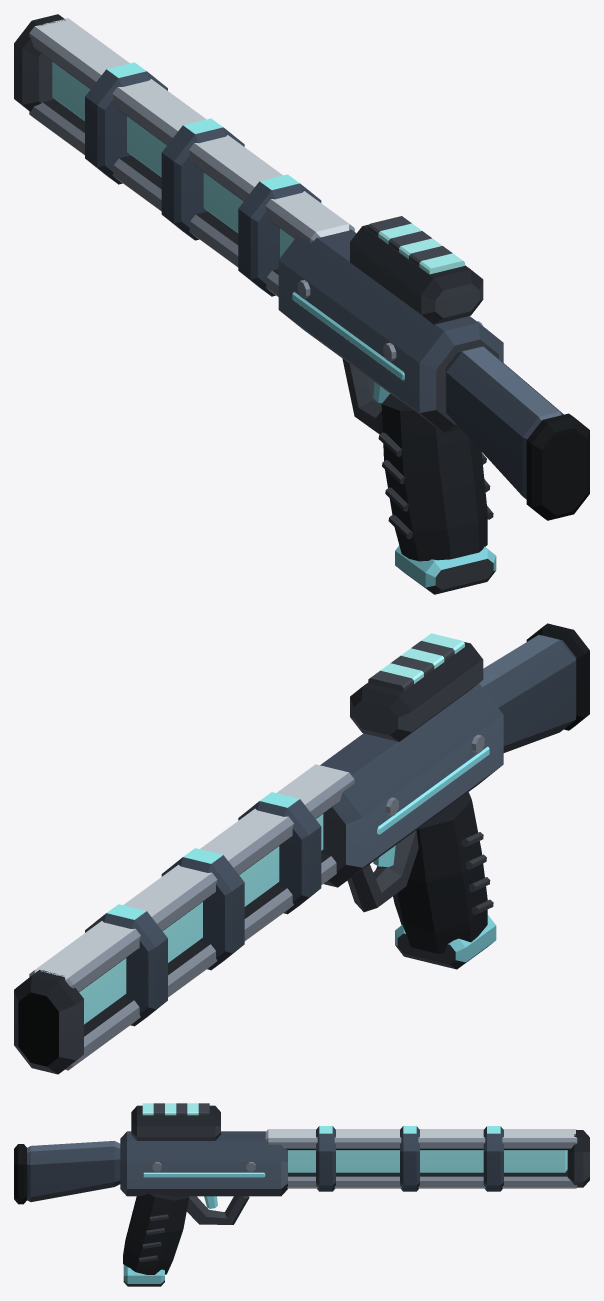
Rendered from Railgun.fbx.
3 views of the same model, one above another, from view 1: azimuth 30°, elevation 25°; view 2: azimuth 150°, elevation 25°; view 3: azimuth 270°, elevation 25° (orthographic). The views are drawn at different scales.
Parts seen in each view (by area): view 1: Rails, Body, Grip, CapacitorRings, Stock, Battery, ButtPad, Channel, GripHeel, Tip, BatteryCells, Guard (+2 smaller); view 2: Rails, Body, CapacitorRings, Grip, Stock, Battery, Tip, Channel, Guard, BatteryCells, GripHeel, ButtPad (+2 smaller); view 3: Body, Rails, Channel, Stock, CapacitorRings, Grip, Battery, Guard, Tip, BatteryCells, ButtPad, Stripe (+2 smaller).
Part boxes in pixels (<box>): Rails: <box>29,18,354,296</box>; Body: <box>278,229,503,432</box>; Grip: <box>381,394,487,561</box>; CapacitorRings: <box>85,62,321,296</box>; Stock: <box>445,346,563,499</box>; Battery: <box>350,224,483,324</box>; ButtPad: <box>526,413,589,520</box>; Channel: <box>52,61,294,257</box>; GripHeel: <box>395,545,496,594</box>; Tip: <box>14,14,65,111</box>; BatteryCells: <box>368,216,464,274</box>; Guard: <box>342,358,390,434</box>; Rails: <box>29,764,354,1070</box>; Body: <box>320,683,503,887</box>; CapacitorRings: <box>85,792,321,1026</box>; Grip: <box>393,791,487,954</box>; Stock: <box>479,635,576,752</box>; Battery: <box>350,642,483,741</box>; Tip: <box>14,970,83,1074</box>; Channel: <box>79,814,323,1024</box>; Guard: <box>347,830,418,912</box>; BatteryCells: <box>368,633,464,691</box>; GripHeel: <box>395,915,496,969</box>; ButtPad: <box>526,623,589,730</box>; Body: <box>120,1131,287,1196</box>; Rails: <box>265,1129,577,1188</box>; Channel: <box>288,1150,567,1172</box>; Stock: <box>27,1141,120,1201</box>; CapacitorRings: <box>316,1126,503,1191</box>; Grip: <box>123,1193,189,1274</box>; Battery: <box>131,1105,220,1140</box>; Guard: <box>186,1196,249,1224</box>; Tip: <box>567,1130,589,1187</box>; BatteryCells: <box>142,1103,209,1115</box>; ButtPad: <box>14,1144,27,1204</box>; Stripe: <box>143,1172,265,1177</box>.
Size of the model in its own units: 0.105 by 0.339 by 1.03.
Materials: 1 (1 with a texture image).
